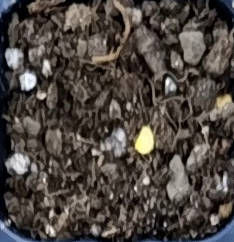pepper seed: (56, 47, 211, 203)
